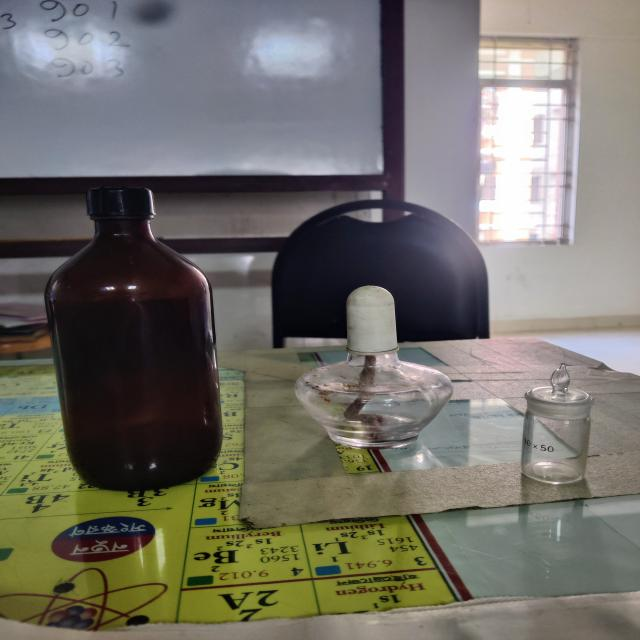Nessler_Reagent_Bottle: (19, 165, 264, 522)
Spirit_Lamp: (280, 268, 475, 466)
Weighing_Bottle: (502, 356, 621, 506)
